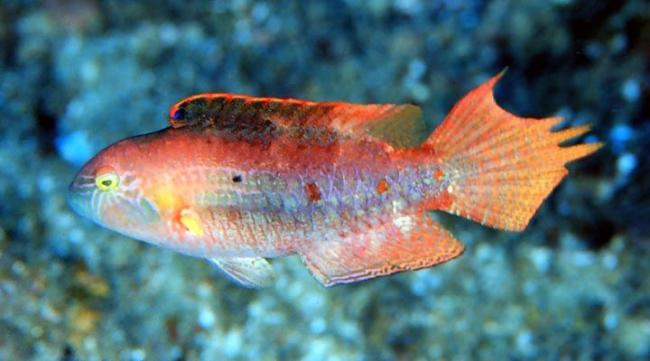fish: (67, 65, 607, 289)
